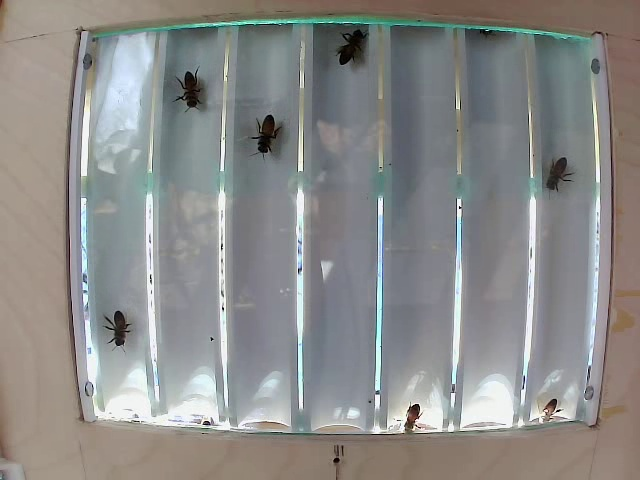bee: (527, 132, 571, 199), (247, 112, 292, 164), (172, 63, 207, 119), (326, 21, 367, 62)
